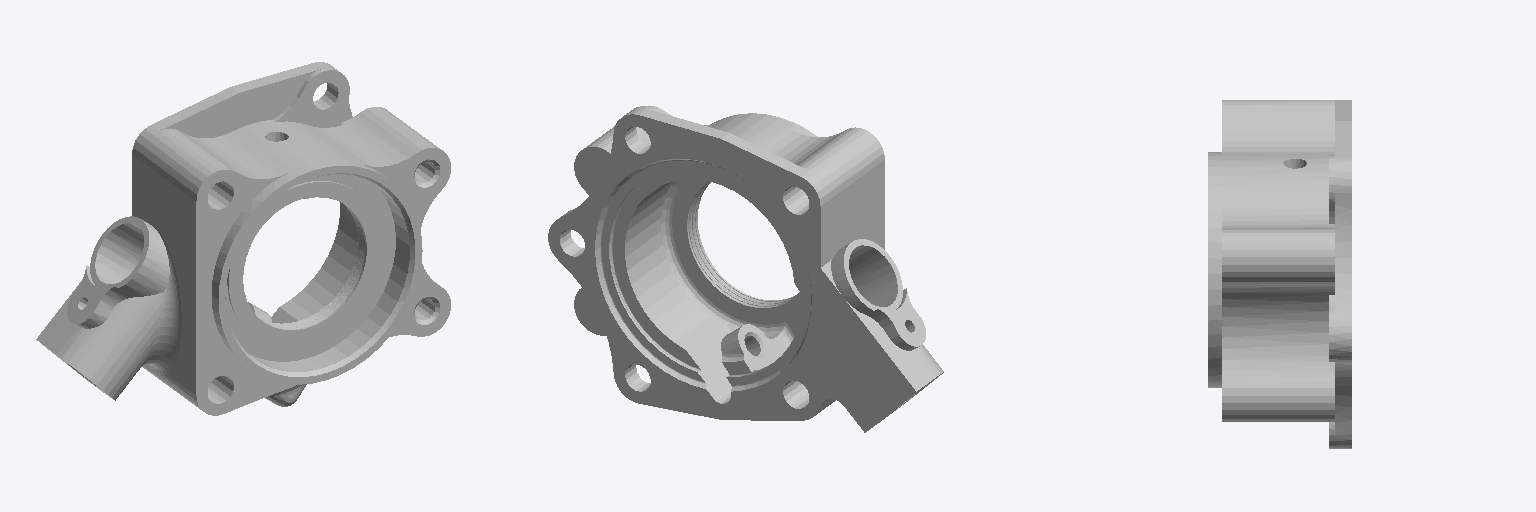
File: 70. Крышка задняя.obj
3 views of the same model, side by side, from view 1: azimuth 30°, elevation 25°; view 2: azimuth 150°, elevation 25°; view 3: azimuth 270°, elevation 25° (orthographic).
Visible parts, largest first — view 1: Твердое тело1; view 2: Твердое тело1; view 3: Твердое тело1.
Boxes of the visible parts, x1=… form: Твердое тело1: x1=36, y1=62, x2=450, y2=415; Твердое тело1: x1=548, y1=106, x2=943, y2=432; Твердое тело1: x1=1208, y1=100, x2=1351, y2=448.
Size of the model in its own units: 152 by 114 by 51.